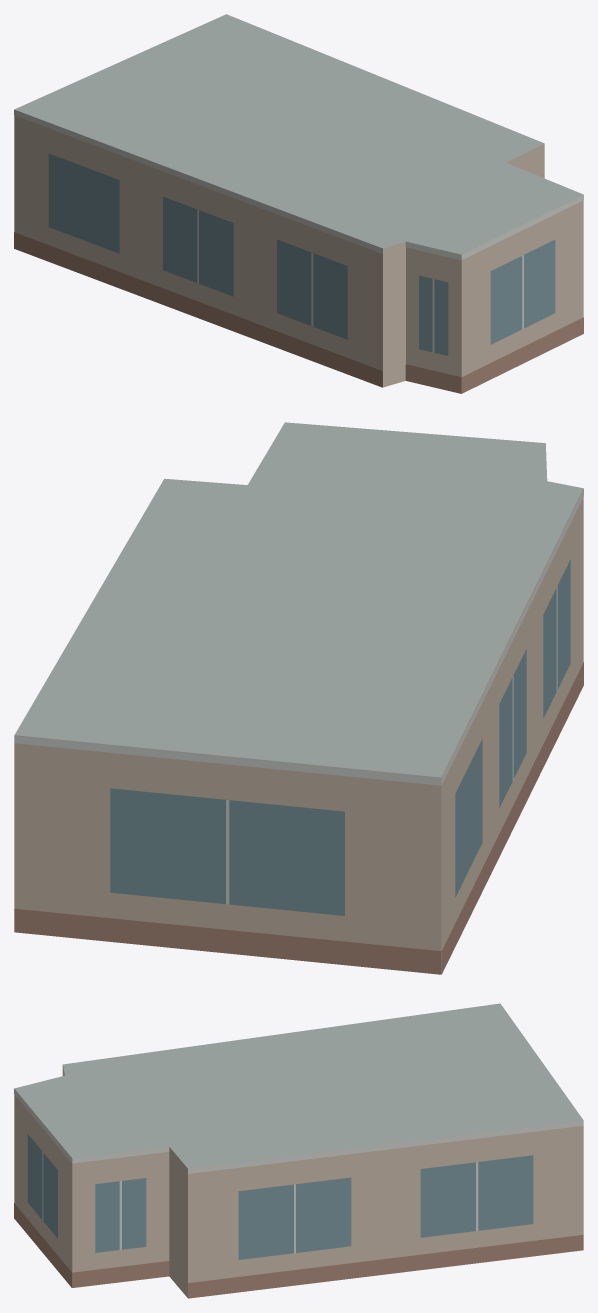
Rendered from survey-upis-32618704.glb.
3 views of the same model, one above another, from view 1: azimuth 30°, elevation 25°; view 2: azimuth 150°, elevation 25°; view 3: azimuth 270°, elevation 25° (orthographic). The views are drawn at different scales.
Visible parts, largest first — view 1: survey-upis-32618704.tmp; view 2: survey-upis-32618704.tmp; view 3: survey-upis-32618704.tmp.
Boxes of the visible parts, bbox=[...] form: survey-upis-32618704.tmp: bbox=[14, 14, 583, 393]; survey-upis-32618704.tmp: bbox=[14, 422, 583, 974]; survey-upis-32618704.tmp: bbox=[14, 1003, 583, 1298].
Bounding box in the file's own units: 8.34 × 3.05 × 12.14.
